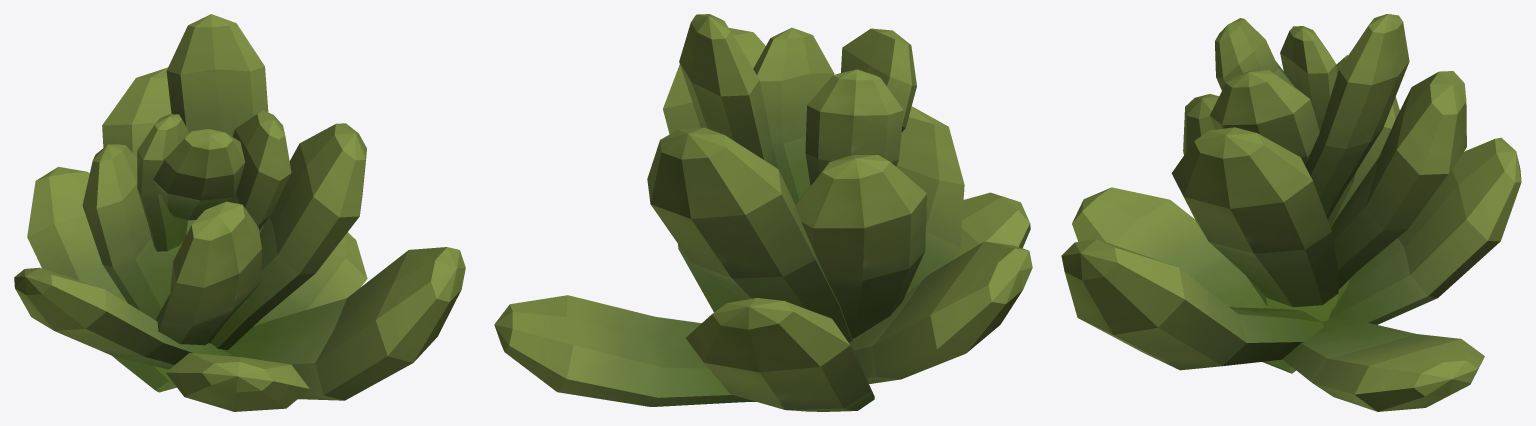
The model's file is Bush.fbx.
3 views of the same model, side by side, from view 1: azimuth 30°, elevation 25°; view 2: azimuth 150°, elevation 25°; view 3: azimuth 270°, elevation 25° (orthographic). The views are drawn at different scales.
Parts seen in each view (by area): view 1: Bush; view 2: Bush; view 3: Bush.
Part boxes in pixels (x1=…): Bush: x1=14, y1=14, x2=465, y2=411; Bush: x1=494, y1=14, x2=1032, y2=411; Bush: x1=1061, y1=14, x2=1521, y2=411.
Size of the model in its own units: 1.26 by 1.07 by 1.24.
